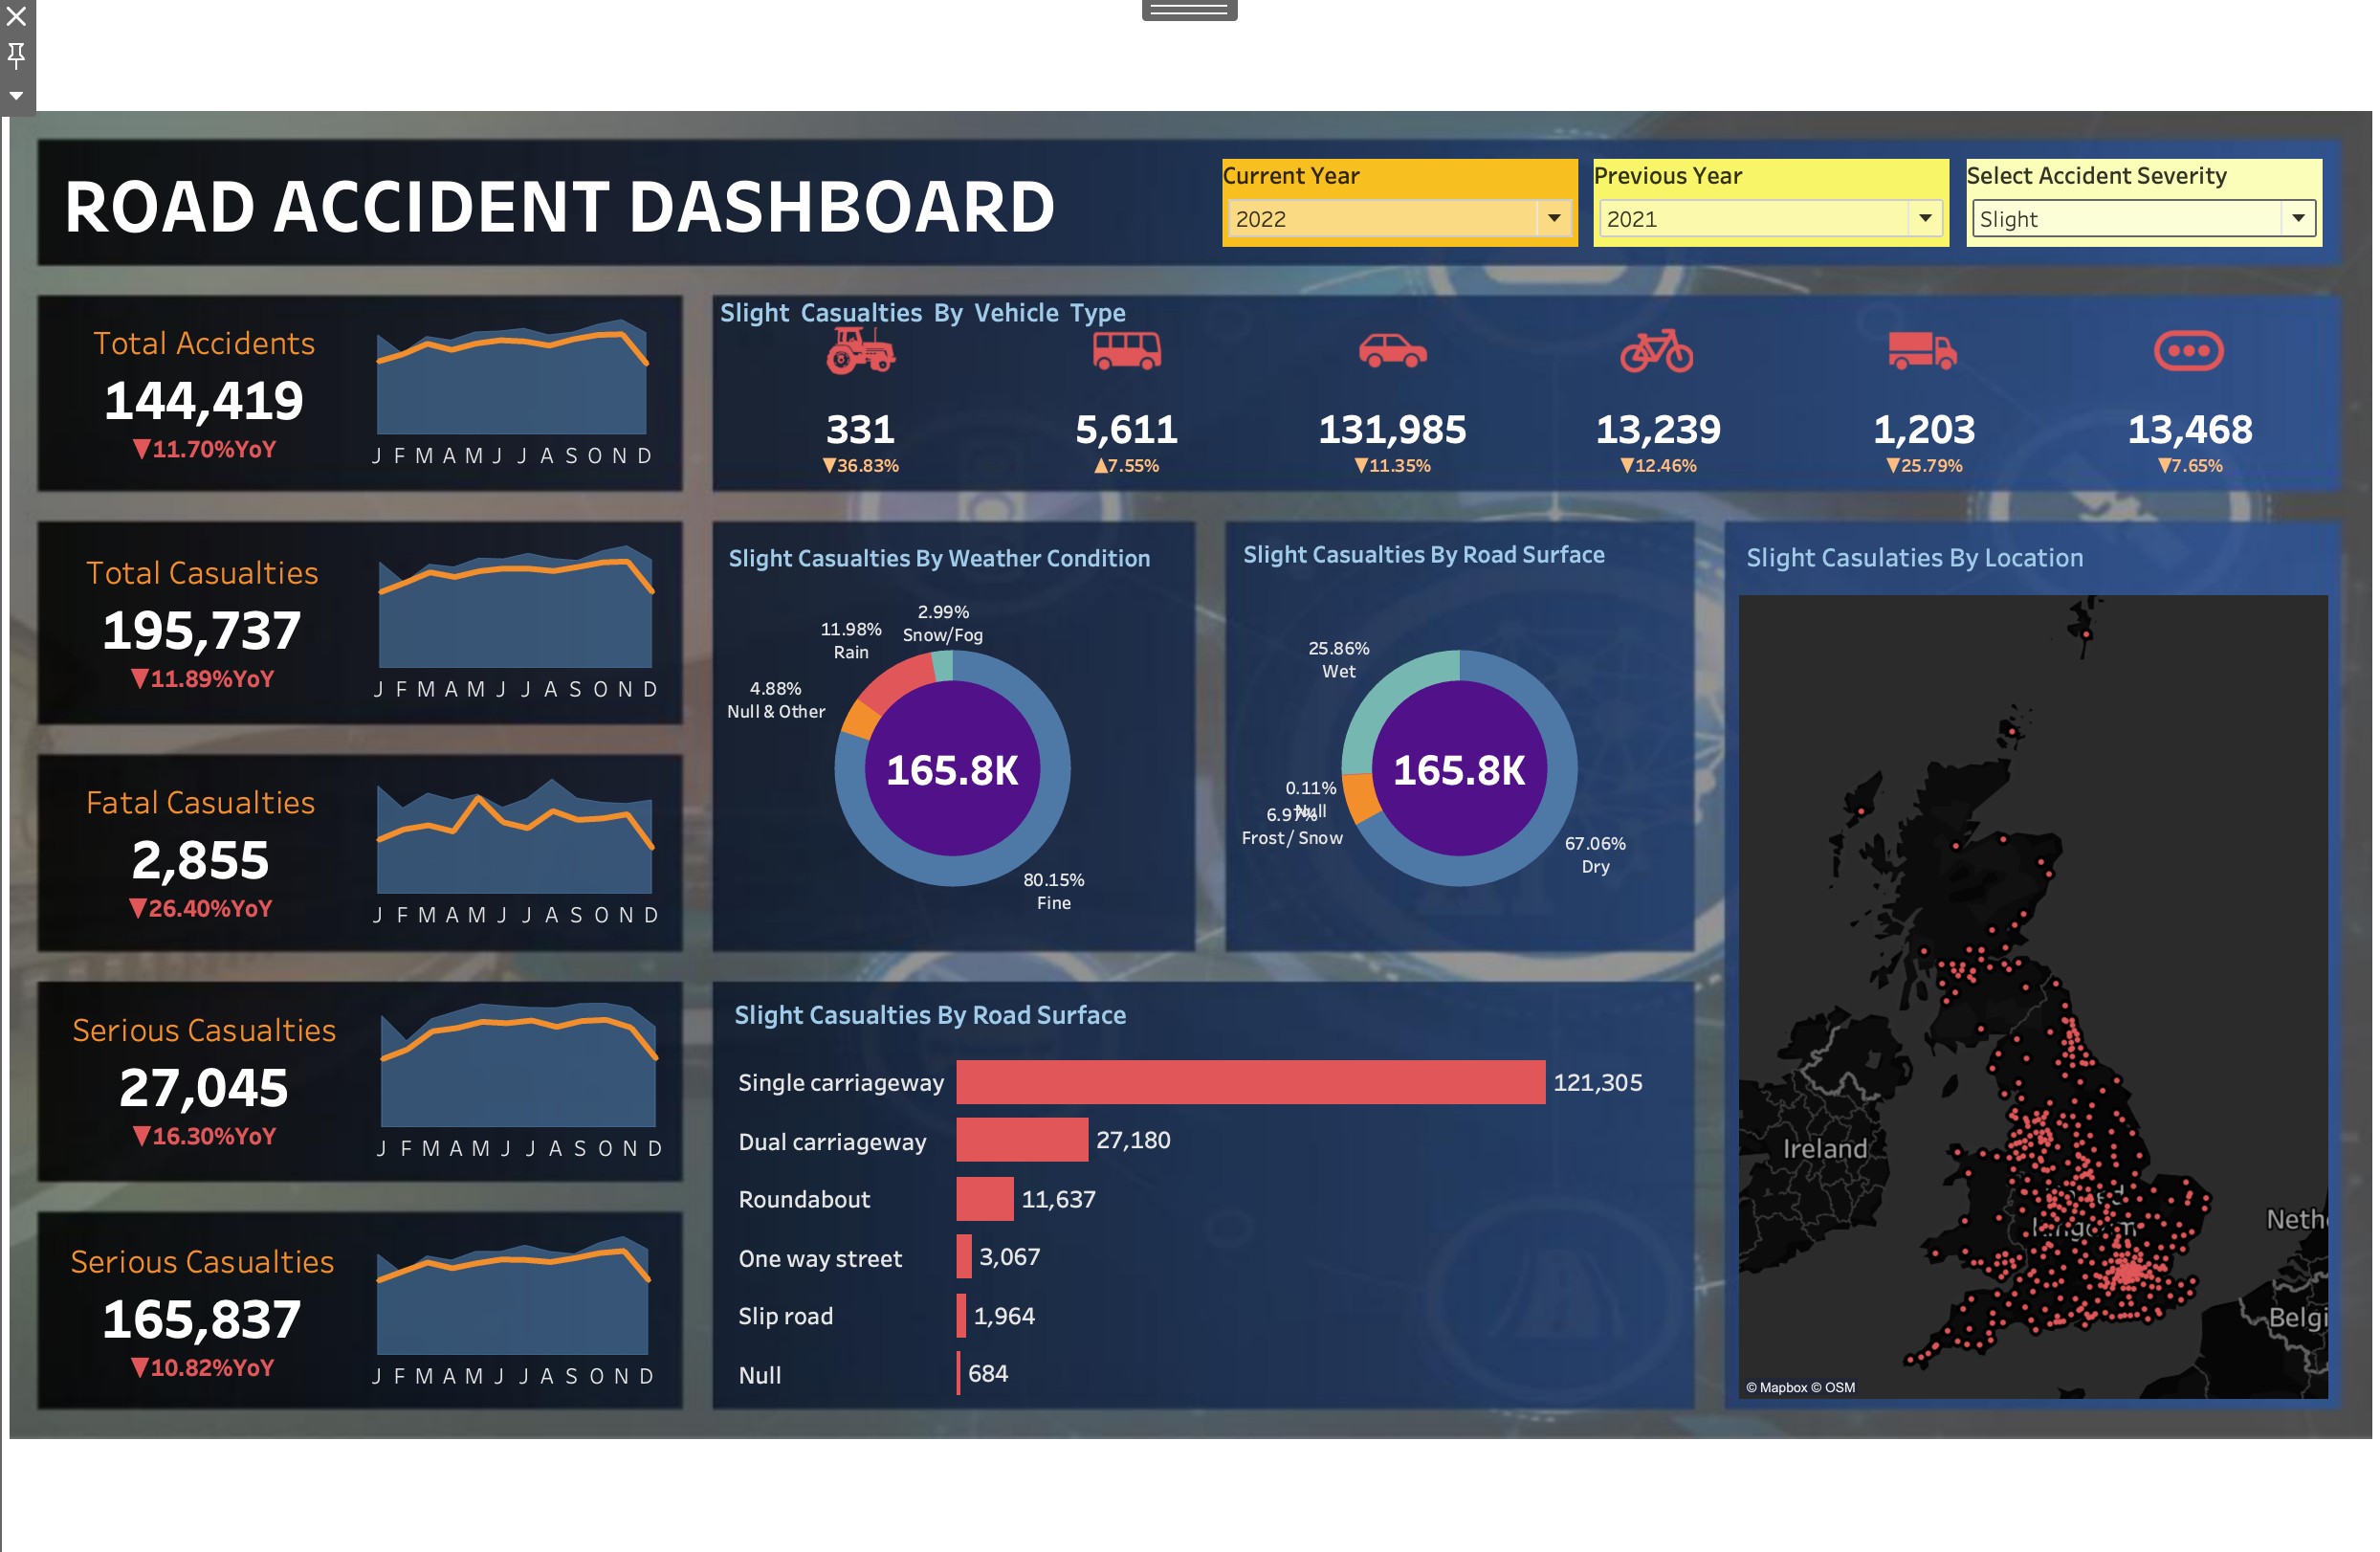

What the dashboard file says about the page in this screenshot:
{"tool":"tableau","page":{"name":"Dashboard 1","canvas":[1259,827],"ordinal":0},"visuals":[{"type":"image","param":"/Users/duren/Desktop/RoadAccidentTableauProject/Background.jpg","box":[8,8,1243,811]},{"type":"text","box":[37,87,532,53]},{"type":"parameter","param":"[Parameters].[Parameter 1]","box":[642,87,194.3,54]},{"type":"parameter","param":"[Parameters].[Current Parameter (copy)_1707216138555375619]","box":[836.3,87,194.3,54]},{"type":"parameter","param":"[Parameters].[Parameter 2]","box":[1030.7,87,194.3,54]},{"type":"text","box":[381,162,454,18]},{"type":"worksheet","title":"Total Accidents","mark":"Automatic","box":[33,168,161,91]},{"type":"worksheet","title":"Accident Sparkline","mark":"Automatic","rows":["CY Accidents (copy)_1707216138557345798","Calculation_1707216138556317701"],"cols":["Accident Date"],"box":[194,168,161,91]},{"type":"worksheet","title":"Vehicle Type Images","mark":"Shape","box":[384,172,841,34]},{"type":"worksheet","title":"Vehicle Type KPI","mark":"Automatic","box":[384,206,841,55]},{"type":"worksheet","title":"Road Surface","mark":"Pie","rows":["Calculation_2393944713413591041","Calculation_2393944713413611523"],"box":[653,285,234,217]},{"type":"worksheet","title":"Total Casualties","mark":"Automatic","box":[31,286,164,95]},{"type":"worksheet","title":"Total Casualties Sparkline","mark":"Automatic","rows":["CY Casualties (copy)_1707216138696777737","Calculation_1707216138694942728"],"cols":["Accident Date"],"box":[195,286,163,95]},{"type":"worksheet","title":"By Location","mark":"Automatic","rows":["Latitude"],"cols":["Longitude"],"box":[916,286,308,453]},{"type":"worksheet","title":"Weather Conditions","mark":"Pie","rows":["Calculation_2393944713413591041","Calculation_2393944713413611523"],"box":[384,287,242,213]},{"type":"worksheet","title":"Fatal Casualties","mark":"Automatic","box":[30,408,164,91]},{"type":"worksheet","title":"Fatal Sparkline","mark":"Automatic","rows":["CY Fatal Casualties (copy)_1707216138700316684","Calculation_1707216138698973195"],"cols":["Accident Date"],"box":[194,408,164,91]},{"type":"worksheet","title":"Serious Casualties","mark":"Automatic","box":[31,525,165,96]},{"type":"worksheet","title":"Serious Sparkline ","mark":"Automatic","rows":["CY Serious Casualties  (copy)_1707216138710491152","CY Fatal Casualties (copy)_1707216138709843983"],"cols":["Accident Date"],"box":[196,525,164,96]},{"type":"worksheet","title":"Road Type","mark":"Automatic","rows":["Road_Type"],"cols":["Calculation_1707216138694942728"],"box":[387,525,498,216]},{"type":"worksheet","title":"Slight Casualties","mark":"Automatic","box":[32,647,162,93]},{"type":"worksheet","title":"Slight Sparkline","mark":"Automatic","rows":["CY Slight Casualties (copy)_1707216138712367126","CY Serious Casualties  (copy)_1707216138711306258"],"cols":["Accident Date"],"box":[194,647,162,93]}]}

Visuals, with their boxes on the page's 1259x827 design canvas (x1, y1, x2, y2). These are canvas units, not pixel positions in the 2380x1552 screenshot, which may show the page scaled, cropped or inside an application window:
image: <box>8,8,1251,819</box>
text: <box>37,87,569,140</box>
parameter: <box>642,87,836,141</box>
parameter: <box>836,87,1031,141</box>
parameter: <box>1031,87,1225,141</box>
text: <box>381,162,835,180</box>
"Total Accidents" worksheet: <box>33,168,194,259</box>
"Accident Sparkline" worksheet: <box>194,168,355,259</box>
"Vehicle Type Images" worksheet (Shape marks): <box>384,172,1225,206</box>
"Vehicle Type KPI" worksheet: <box>384,206,1225,261</box>
"Road Surface" worksheet (Pie marks): <box>653,285,887,502</box>
"Total Casualties" worksheet: <box>31,286,195,381</box>
"Total Casualties Sparkline" worksheet: <box>195,286,358,381</box>
"By Location" worksheet: <box>916,286,1224,739</box>
"Weather Conditions" worksheet (Pie marks): <box>384,287,626,500</box>
"Fatal Casualties" worksheet: <box>30,408,194,499</box>
"Fatal Sparkline" worksheet: <box>194,408,358,499</box>
"Serious Casualties" worksheet: <box>31,525,196,621</box>
"Serious Sparkline " worksheet: <box>196,525,360,621</box>
"Road Type" worksheet: <box>387,525,885,741</box>
"Slight Casualties" worksheet: <box>32,647,194,740</box>
"Slight Sparkline" worksheet: <box>194,647,356,740</box>
